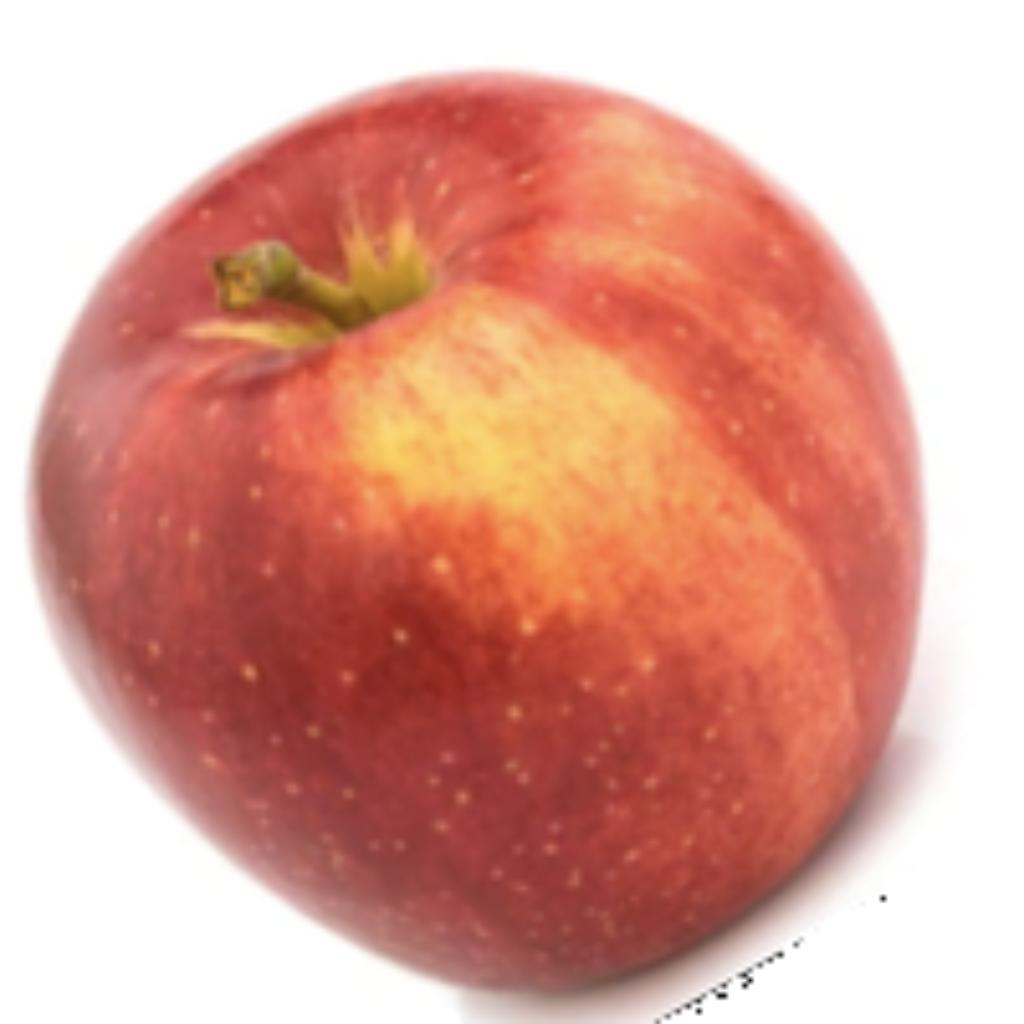apple: (15, 61, 957, 1019)
